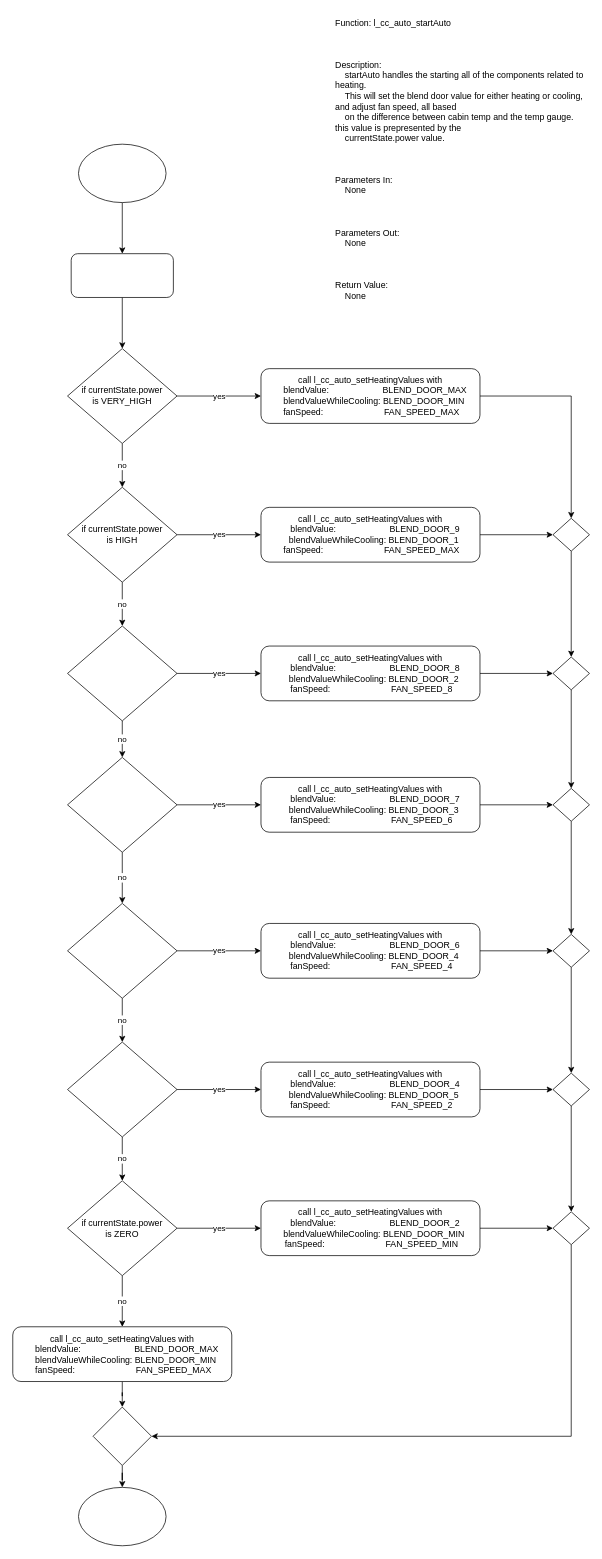
Image size: 602x1559. Some labels were removed from this diagram. Here are the shapes that lost their labels. From the top down, the box of each, then its label:
(70, 253, 173, 297): call l_cc_auto_startAuto
(67, 625, 177, 721): if currentState.power is MEDIUM_HIGH
(67, 757, 177, 852): if currentState.power is MEDIUM_LOW
(67, 903, 177, 998): if currentState.power is LOW
(67, 1041, 177, 1137): if currentState.power is VERY_LOW
